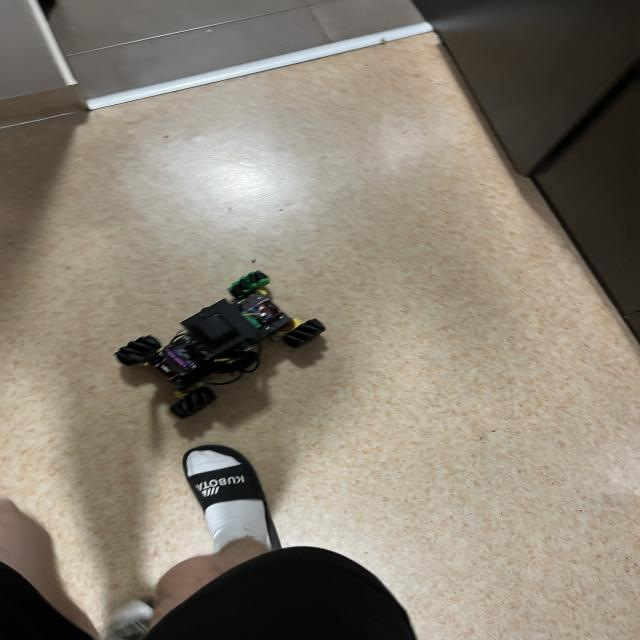robot: (115, 270, 324, 418)
